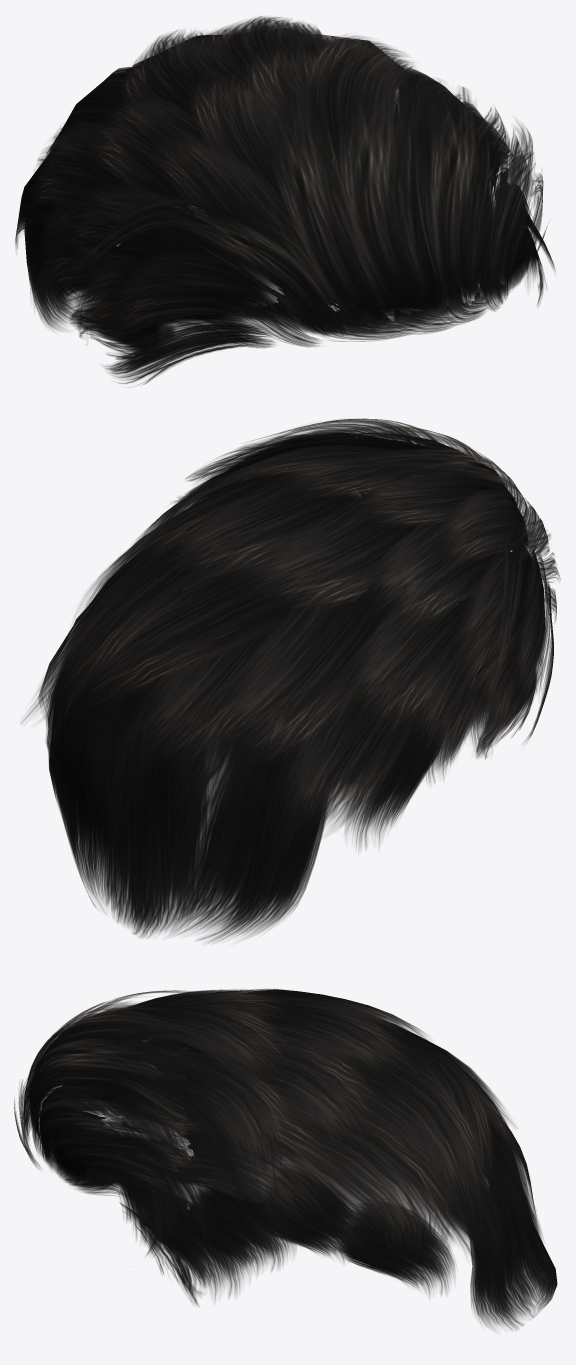
The model's file is Oblong_Straight_SlickBack.glb.
The picture shows the model from 3 angles, top to bottom: view 1: azimuth 30°, elevation 25°; view 2: azimuth 150°, elevation 25°; view 3: azimuth 270°, elevation 25°; orthographic projection. The views are drawn at different scales.
Parts seen in each view (by area): view 1: slick back; view 2: slick back; view 3: slick back.
Part boxes in pixels (x1=…): slick back: x1=15, y1=16, x2=555, y2=384; slick back: x1=21, y1=418, x2=560, y2=942; slick back: x1=14, y1=988, x2=557, y2=1329.
Bounding box in the file's own units: 0.1576 × 0.1421 × 0.2184.
1 material, 1 textured.
